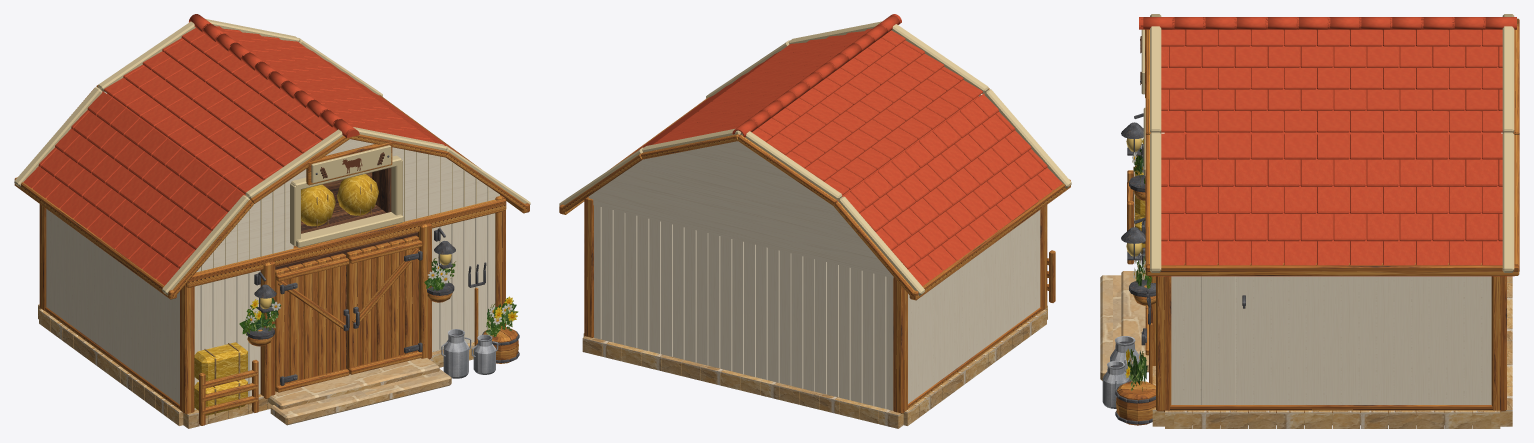
The model's file is BarnExterior_Cozy_LOD0.fbx.
3 views of the same model, side by side, from view 1: azimuth 30°, elevation 25°; view 2: azimuth 150°, elevation 25°; view 3: azimuth 270°, elevation 25° (orthographic). The views are drawn at different scales.
Visible parts, largest first — view 1: BarnExterior_Cozy_LOD0; view 2: BarnExterior_Cozy_LOD0; view 3: BarnExterior_Cozy_LOD0.
Part boxes in pixels (<box>): BarnExterior_Cozy_LOD0: <box>14,14,530,428</box>; BarnExterior_Cozy_LOD0: <box>559,14,1071,428</box>; BarnExterior_Cozy_LOD0: <box>1100,14,1519,428</box>.
Size of the model in its own units: 8.26 by 5.72 by 6.87.
